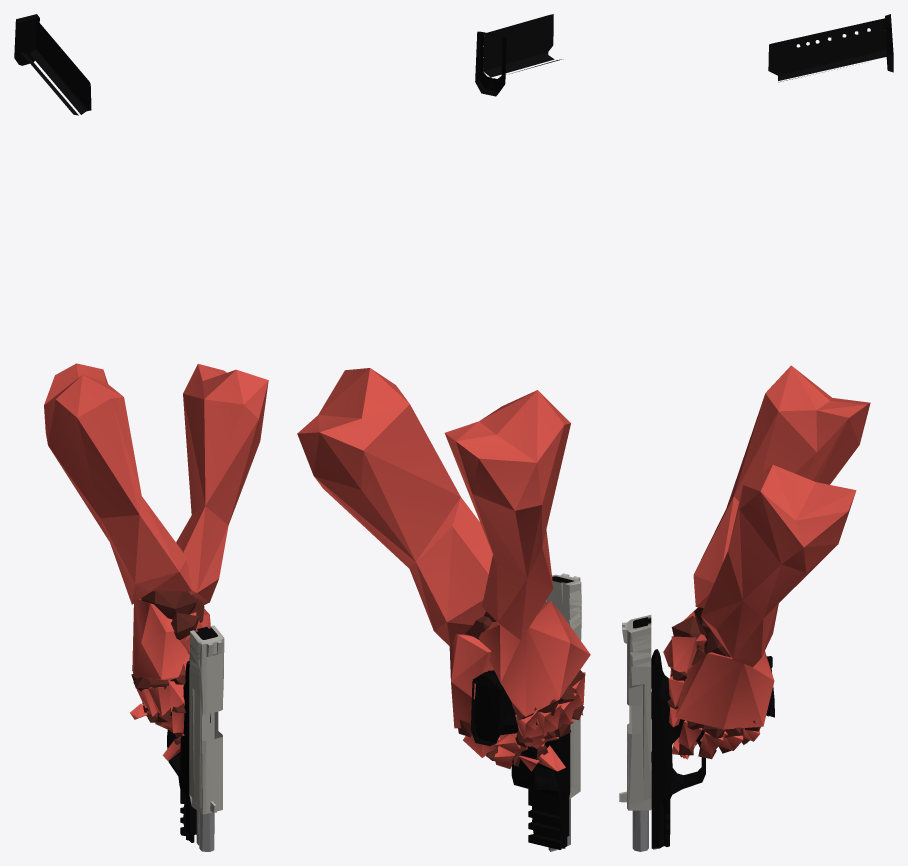
The model's file is M&P9reloadNormal1lowP_000101.obj.
3 views of the same model, side by side, from view 1: azimuth 30°, elevation 25°; view 2: azimuth 150°, elevation 25°; view 3: azimuth 270°, elevation 25° (orthographic). The views are drawn at different scales.
Visible parts, largest first — view 1: Beta_Surface.001_Beta_Surface.002, slide_平面.002, magazine.002_平面.005, Beta_Joints.001_Beta_Joints.002, triger_平面.001; view 2: Beta_Surface.001_Beta_Surface.002, triger_平面.001, magazine.002_平面.005, slide_平面.002, Beta_Joints.001_Beta_Joints.002; view 3: Beta_Surface.001_Beta_Surface.002, triger_平面.001, slide_平面.002, magazine.002_平面.005, Beta_Joints.001_Beta_Joints.002.
Part boxes in pixels (x1,y1,x2,y2): Beta_Surface.001_Beta_Surface.002: (44, 363, 268, 760); slide_平面.002: (189, 625, 224, 814); magazine.002_平面.005: (14, 14, 91, 115); Beta_Joints.001_Beta_Joints.002: (131, 591, 204, 750); triger_平面.001: (167, 660, 214, 851); Beta_Surface.001_Beta_Surface.002: (297, 368, 590, 771); triger_平面.001: (473, 670, 570, 851); magazine.002_平面.005: (475, 14, 563, 96); slide_平面.002: (545, 573, 581, 798); Beta_Joints.001_Beta_Joints.002: (458, 602, 585, 766); Beta_Surface.001_Beta_Surface.002: (663, 365, 870, 759); triger_平面.001: (632, 649, 772, 851); slide_平面.002: (619, 615, 651, 810); magazine.002_平面.005: (768, 14, 893, 82); Beta_Joints.001_Beta_Joints.002: (667, 607, 760, 759).
Size of the model in its own units: 40.54 by 141 by 43.84.
